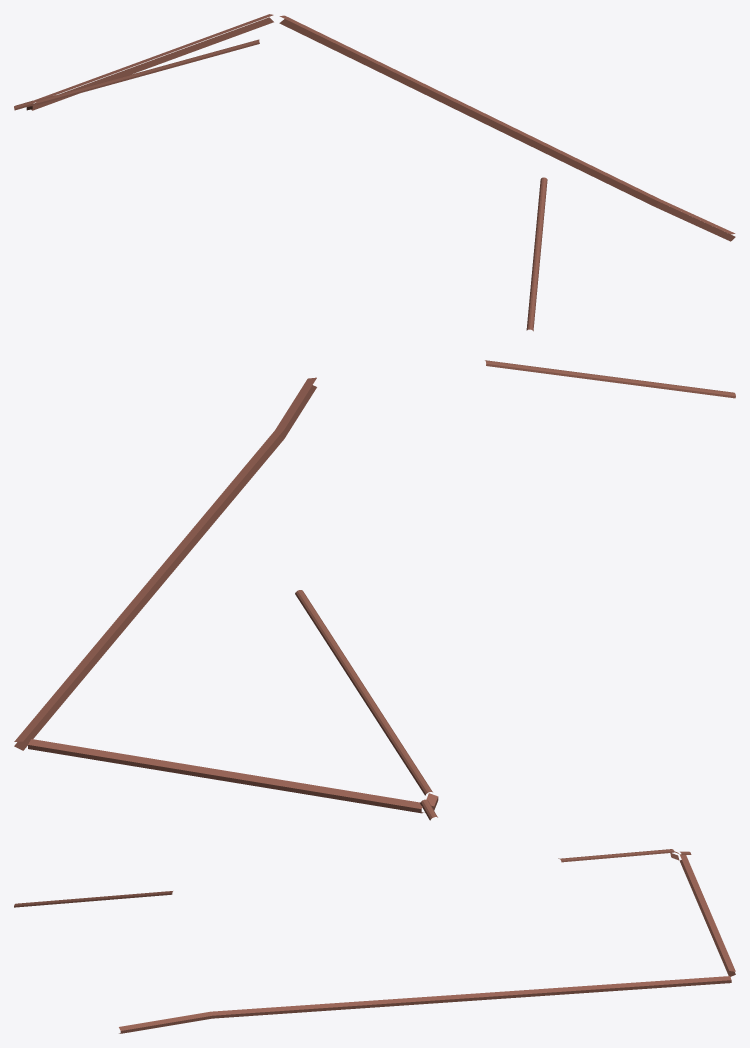
3 views of the same model, one above another, from view 1: azimuth 30°, elevation 25°; view 2: azimuth 150°, elevation 25°; view 3: azimuth 270°, elevation 25° (orthographic). The views are drawn at different scales.
Parts seen in each view (by area): view 1: detail; view 2: detail; view 3: detail.
Part boxes in pixels (x1,y1,x2,y2): detail: [14, 14, 735, 331]; detail: [14, 360, 735, 820]; detail: [14, 849, 735, 1033].
Bounding box in the file's own units: 20.33 × 3.81 × 34.12.
